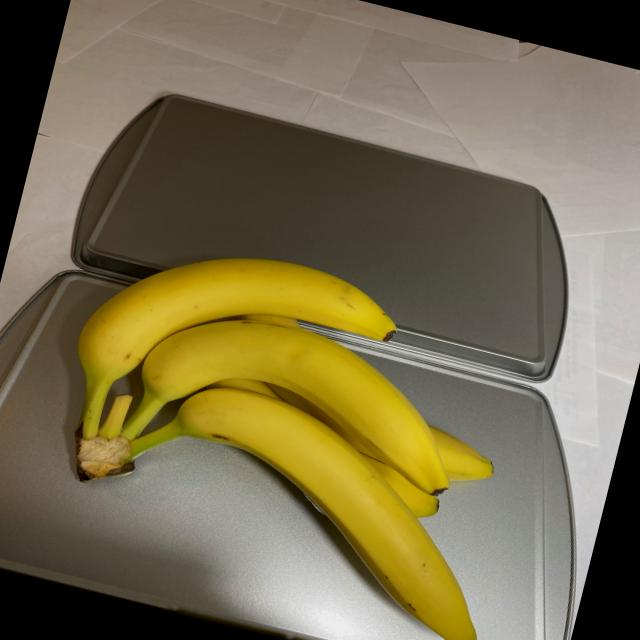banana: (21, 211, 561, 640)
